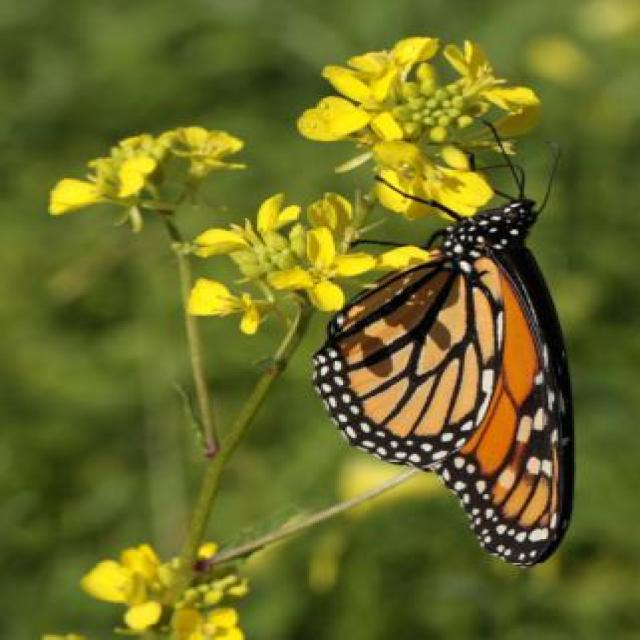antennae: (526, 137, 570, 217)
body: (426, 192, 536, 258)
insect: (310, 119, 573, 572)
legs: (345, 120, 521, 246)
wings: (319, 247, 571, 568)
